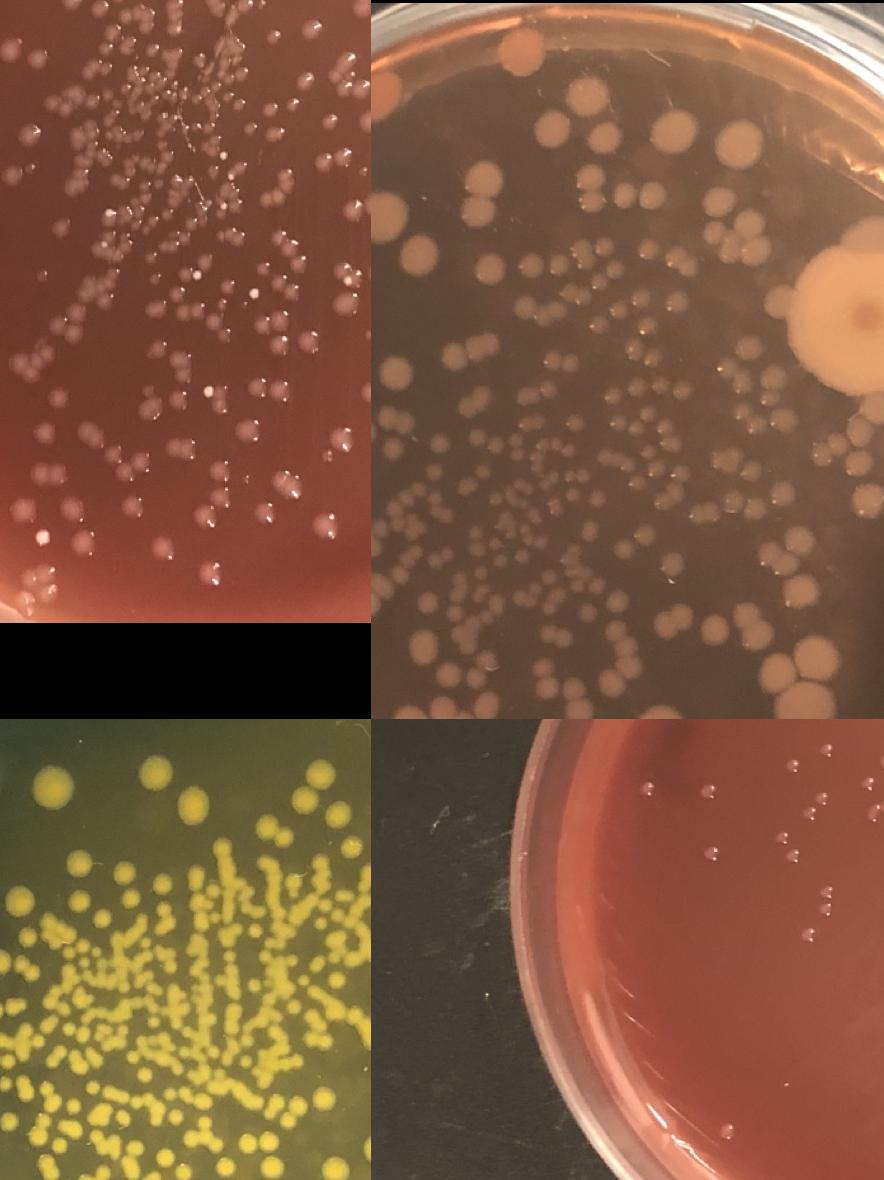pddamselae: (608, 401, 660, 439), (780, 571, 822, 609), (466, 161, 507, 199), (583, 119, 623, 157), (531, 110, 571, 148), (398, 237, 437, 275), (375, 355, 414, 393), (758, 654, 798, 691), (566, 77, 606, 114), (470, 250, 510, 286), (848, 479, 884, 517), (590, 258, 627, 294), (671, 380, 694, 400), (648, 374, 670, 394), (637, 238, 659, 258), (626, 473, 648, 493), (624, 376, 646, 396), (600, 386, 622, 406), (594, 237, 616, 257), (587, 314, 609, 334), (586, 490, 608, 510), (608, 300, 629, 320), (660, 434, 682, 453), (637, 318, 659, 337), (637, 441, 659, 460), (630, 288, 652, 307), (563, 414, 585, 432), (667, 294, 688, 312)
pdpiscicida: (82, 423, 152, 485), (170, 286, 234, 344), (195, 458, 233, 528), (14, 560, 61, 613), (330, 47, 371, 101), (10, 342, 58, 384), (256, 261, 302, 301), (271, 229, 309, 273), (48, 303, 88, 343), (258, 165, 295, 207), (312, 142, 356, 170), (104, 21, 139, 54), (30, 461, 70, 488), (270, 467, 302, 500), (253, 308, 290, 336), (340, 190, 371, 223), (774, 830, 802, 864), (170, 348, 192, 384), (818, 882, 838, 918), (177, 214, 199, 246), (119, 495, 144, 521), (20, 118, 44, 145), (334, 290, 358, 316), (330, 425, 354, 451), (298, 17, 322, 43), (298, 327, 322, 353), (268, 377, 292, 403), (254, 499, 278, 525), (236, 417, 260, 443), (200, 561, 224, 587), (152, 536, 176, 562), (72, 530, 96, 556), (35, 419, 59, 445), (12, 498, 36, 524), (0, 162, 24, 188), (174, 437, 198, 462), (138, 395, 161, 421), (61, 494, 84, 520), (28, 44, 51, 70), (212, 382, 230, 414), (316, 512, 338, 538), (294, 68, 316, 94), (0, 35, 21, 61), (136, 176, 154, 206), (347, 0, 371, 20), (866, 797, 884, 821), (263, 26, 283, 47), (246, 376, 266, 396), (167, 390, 187, 410), (51, 216, 71, 236), (48, 388, 68, 407), (95, 291, 114, 310), (91, 0, 110, 19), (334, 261, 352, 281), (270, 334, 288, 354), (147, 340, 166, 358), (860, 774, 878, 792), (818, 740, 836, 758), (814, 788, 832, 806), (800, 804, 818, 822), (785, 756, 803, 774), (718, 1123, 736, 1141), (702, 844, 720, 862), (700, 782, 718, 800), (359, 379, 371, 405), (800, 925, 818, 942), (284, 96, 302, 112), (230, 96, 248, 112), (360, 107, 371, 133), (59, 0, 82, 12), (229, 231, 246, 247), (641, 780, 658, 796), (242, 121, 258, 137), (232, 158, 248, 174), (206, 163, 222, 179), (176, 266, 192, 282), (114, 175, 131, 190), (98, 61, 115, 76), (323, 113, 338, 129), (219, 279, 234, 295), (198, 254, 213, 270), (270, 124, 284, 140), (260, 102, 276, 116), (202, 119, 216, 135), (148, 272, 164, 286), (142, 248, 156, 264), (160, 148, 174, 163), (878, 751, 884, 769)
vharveyi: (28, 757, 82, 817), (276, 1083, 343, 1131), (287, 757, 337, 816), (236, 1129, 286, 1180), (169, 782, 219, 826), (106, 854, 142, 910), (132, 751, 174, 791), (57, 842, 98, 882), (252, 813, 296, 848), (0, 946, 42, 982), (62, 936, 104, 969), (0, 883, 38, 919), (320, 798, 353, 832), (24, 1110, 52, 1148), (152, 872, 175, 918), (318, 1153, 353, 1180), (43, 1042, 70, 1072), (60, 1020, 94, 1042), (208, 834, 236, 860), (66, 886, 92, 914), (340, 832, 364, 860), (91, 905, 115, 931), (0, 1108, 24, 1134), (213, 1154, 237, 1178), (152, 1144, 176, 1168), (162, 1085, 194, 1102), (358, 1129, 371, 1169), (174, 1159, 198, 1180), (17, 926, 38, 949), (0, 1044, 17, 1071), (113, 1106, 133, 1128), (51, 1134, 71, 1156), (327, 970, 347, 990), (310, 913, 330, 933), (283, 870, 303, 890), (244, 974, 262, 996), (237, 1050, 255, 1072), (66, 1094, 84, 1116), (246, 920, 266, 938), (39, 1078, 57, 1098), (14, 994, 32, 1014), (222, 946, 241, 964), (0, 1073, 15, 1095), (204, 880, 222, 898), (284, 998, 304, 1014), (196, 1113, 213, 1129), (208, 1137, 224, 1153), (184, 1131, 200, 1147), (168, 1109, 184, 1125), (124, 1050, 142, 1064), (85, 1079, 100, 1095), (138, 1066, 152, 1082), (146, 1014, 161, 1028), (298, 974, 312, 987), (0, 997, 5, 1021)
